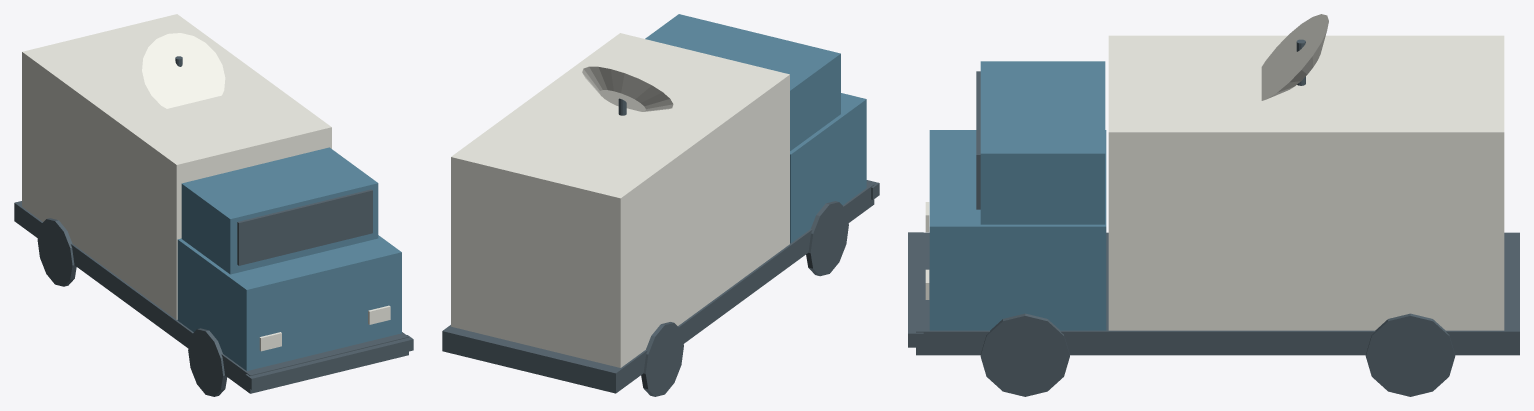
Rendered from tvtruck.glb.
3 renders of one model, left to right at view 1: azimuth 30°, elevation 25°; view 2: azimuth 150°, elevation 25°; view 3: azimuth 270°, elevation 25°, orthographic. The views are drawn at different scales.
Visible parts, largest first — view 1: broadcast-truck, wheel--1.12--1.85, wheel--1.12-1.85; view 2: broadcast-truck, wheel--1.12-1.85, wheel--1.12--1.85; view 3: broadcast-truck, wheel-1.12--1.85, wheel-1.12-1.85.
Part boxes in pixels (left/top/right/bottom): broadcast-truck: left=14, top=14, right=413, bottom=393; wheel--1.12--1.85: left=37, top=218, right=76, bottom=286; wheel--1.12-1.85: left=188, top=328, right=227, bottom=396; broadcast-truck: left=442, top=14, right=879, bottom=393; wheel--1.12-1.85: left=806, top=201, right=848, bottom=276; wheel--1.12--1.85: left=641, top=322, right=683, bottom=396; broadcast-truck: left=908, top=14, right=1519, bottom=355; wheel-1.12--1.85: left=1365, top=313, right=1455, bottom=396; wheel-1.12-1.85: left=980, top=313, right=1069, bottom=396.
Bounding box in the file's own units: 2.3 × 3.45 × 5.88.
